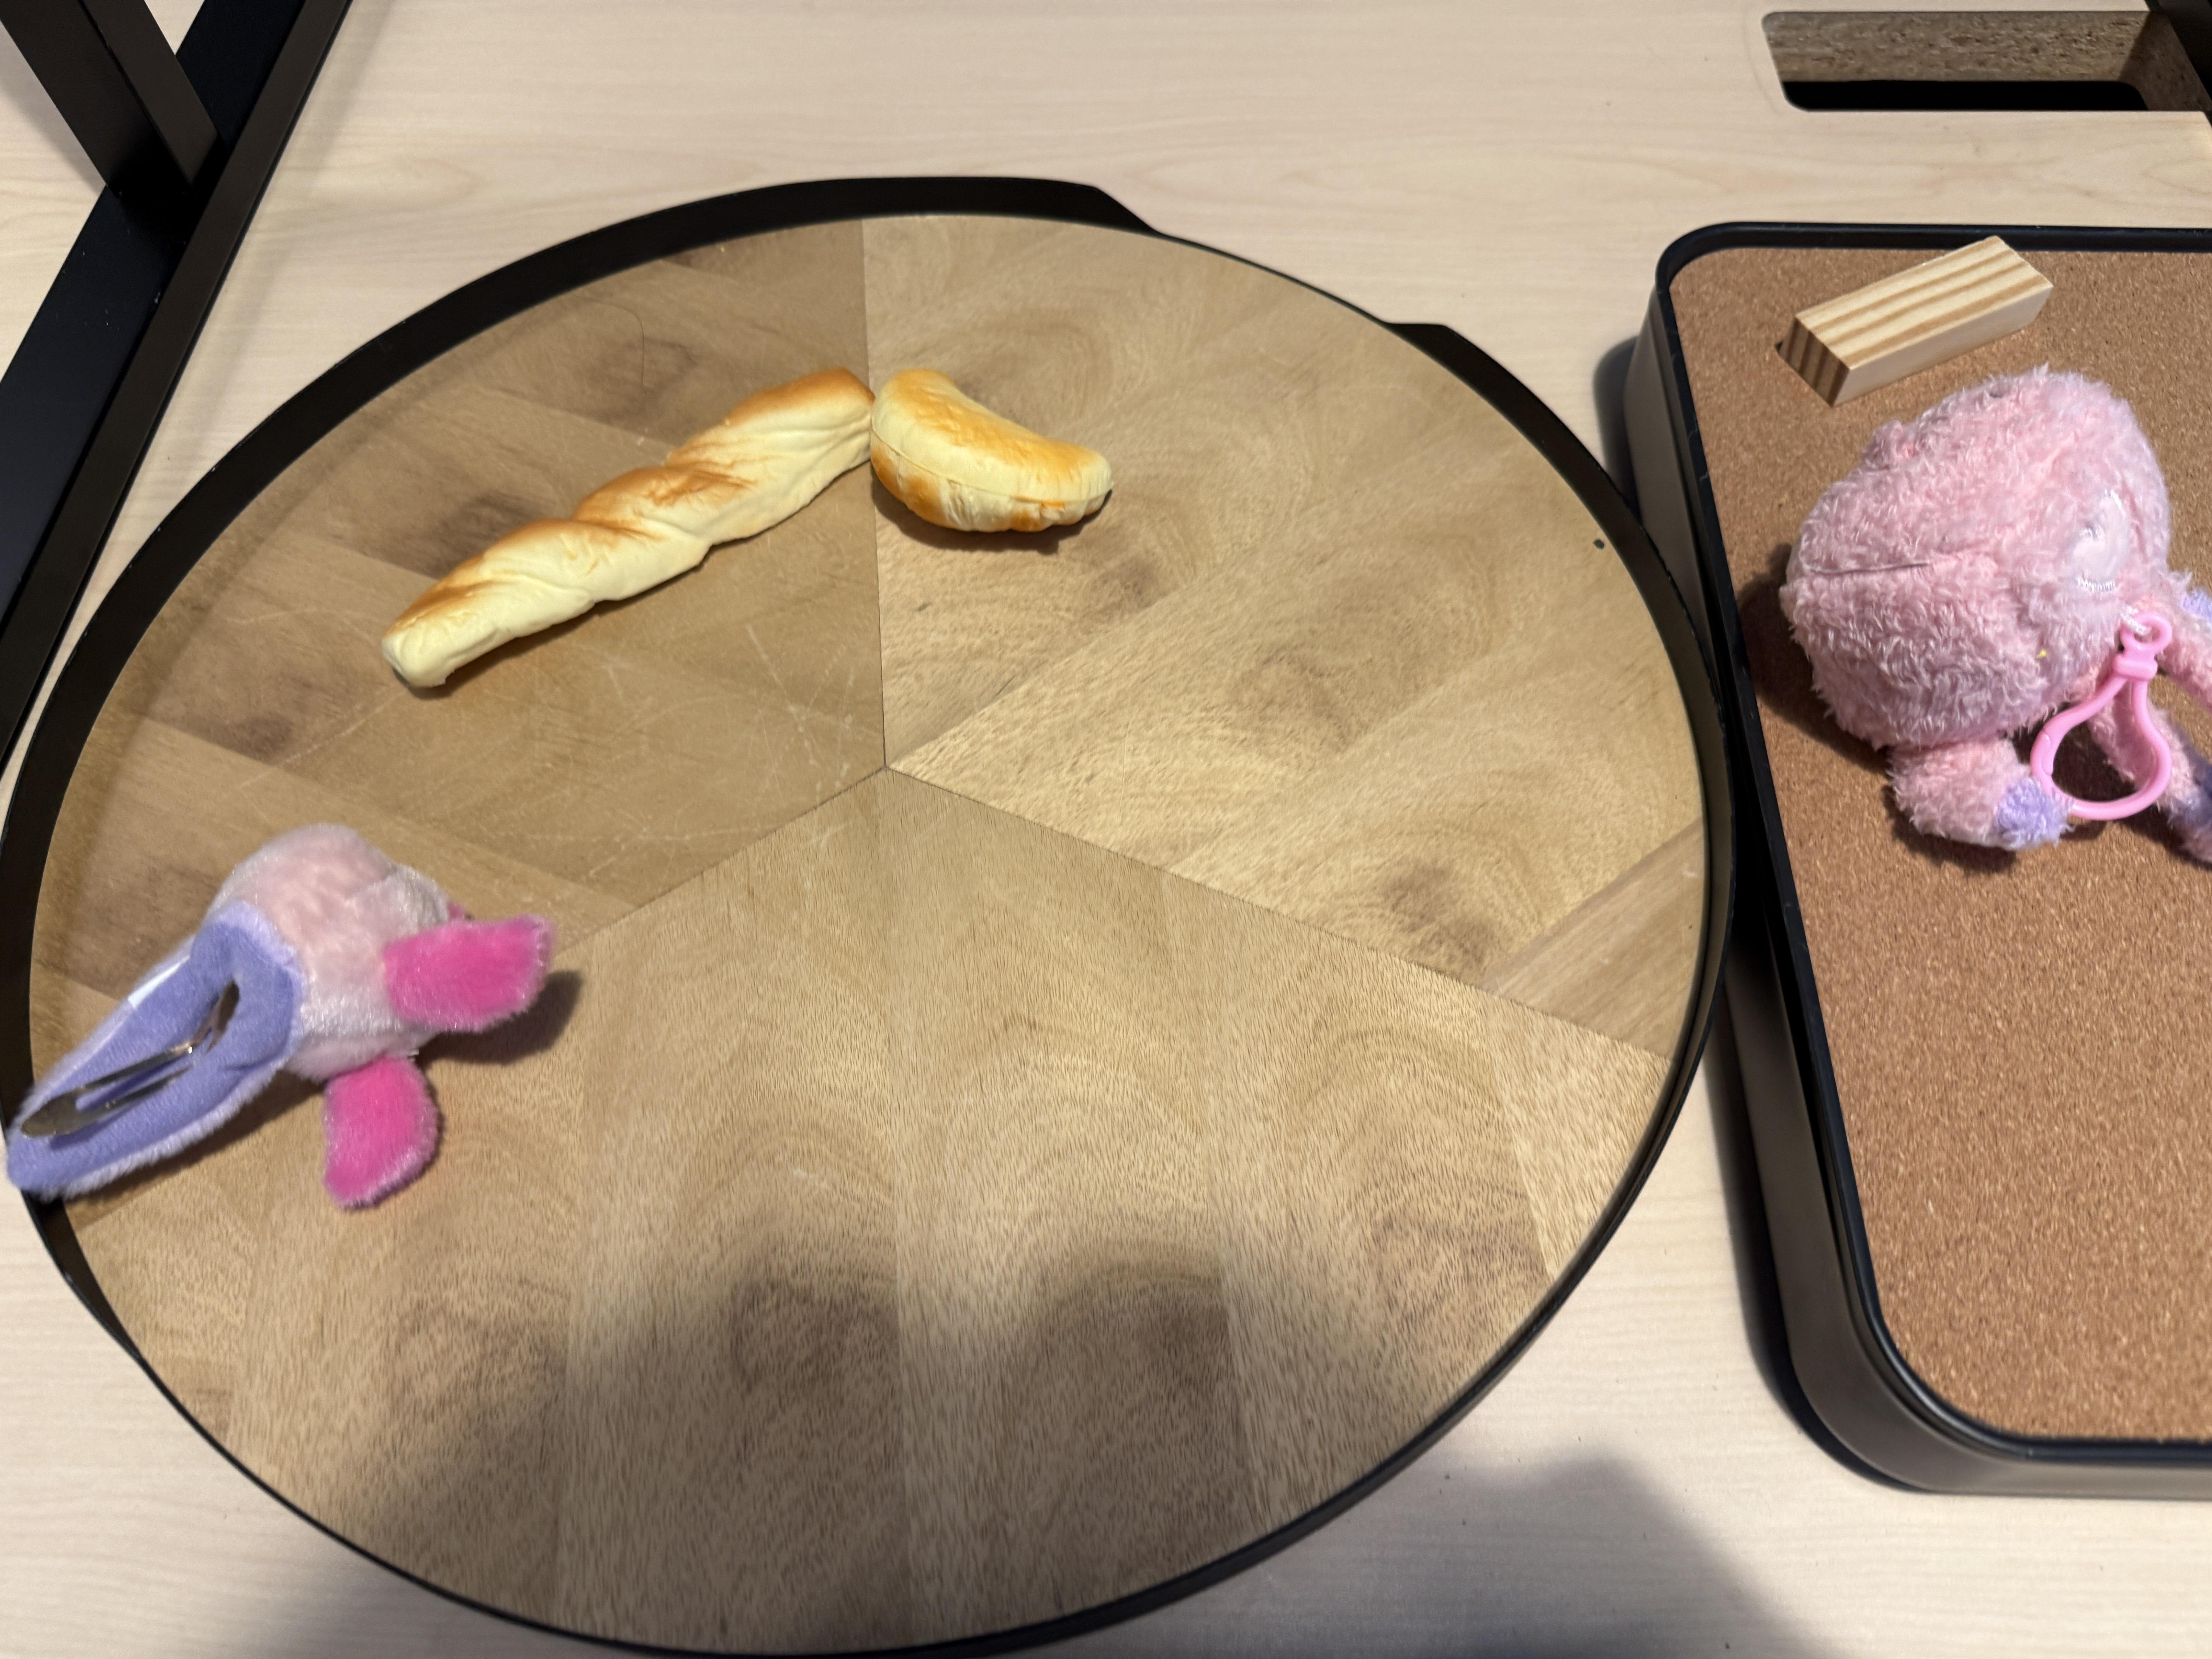block: (1784, 234, 2062, 401)
bread: (378, 362, 874, 701), (871, 366, 1111, 540)
doll: (5, 819, 559, 1215), (1782, 371, 2212, 873)
